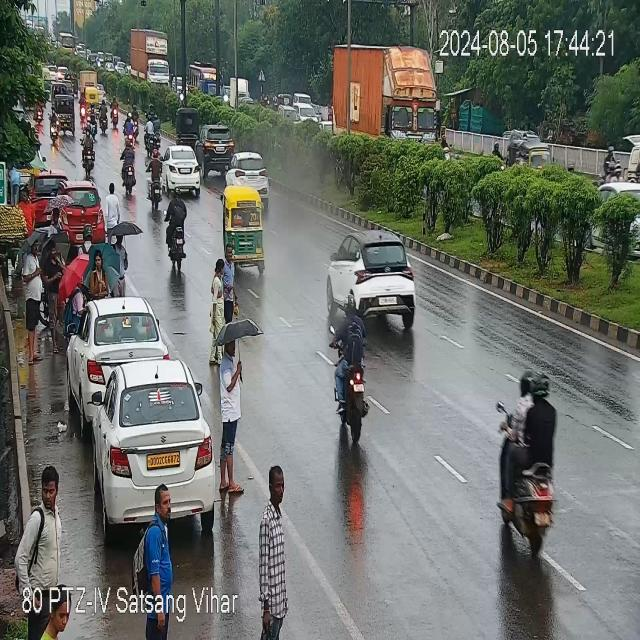2-wheelers: (501, 370, 564, 550), (333, 307, 372, 444), (161, 192, 191, 266), (82, 93, 120, 131), (120, 141, 140, 195), (143, 114, 165, 151), (80, 131, 98, 175), (604, 140, 622, 183), (125, 106, 142, 143), (51, 100, 60, 146), (35, 104, 45, 125)
auto: (220, 187, 265, 266), (504, 137, 556, 169), (50, 85, 80, 139), (174, 107, 201, 144), (80, 73, 107, 105), (66, 70, 77, 92)
bus: (57, 34, 78, 61)
car: (74, 359, 221, 529), (68, 298, 168, 397), (329, 235, 423, 326), (58, 183, 108, 241), (156, 146, 208, 194), (224, 149, 270, 186), (199, 146, 234, 178), (199, 127, 238, 154)
pedestrian: (17, 461, 70, 595), (255, 451, 288, 635), (135, 493, 178, 596), (218, 328, 244, 497), (45, 237, 66, 365), (23, 239, 46, 353), (208, 248, 238, 321), (102, 230, 129, 303), (184, 61, 220, 92), (89, 248, 108, 301), (21, 189, 37, 231)
truck: (324, 42, 442, 144), (127, 30, 181, 88)
